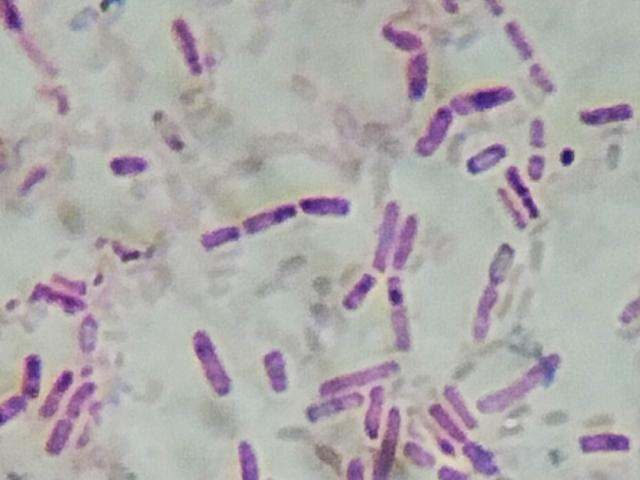E. coli: (485, 349, 573, 430), (0, 0, 63, 79), (191, 322, 235, 400), (383, 273, 418, 353), (245, 195, 302, 240), (299, 183, 353, 226), (507, 165, 548, 218), (171, 16, 209, 73), (259, 342, 299, 395), (233, 424, 269, 480), (469, 282, 502, 343), (579, 96, 638, 130), (578, 427, 633, 463), (442, 377, 485, 422), (371, 196, 399, 264), (105, 145, 161, 178), (455, 79, 509, 111), (309, 393, 363, 425), (418, 103, 451, 155), (196, 222, 247, 253), (380, 409, 403, 477), (325, 365, 400, 385), (343, 267, 373, 315), (493, 189, 526, 231), (18, 349, 48, 395), (395, 215, 422, 266), (616, 284, 640, 339), (486, 239, 519, 277), (465, 140, 509, 168), (408, 47, 433, 96), (382, 17, 418, 51), (505, 19, 534, 58), (43, 367, 65, 416), (429, 405, 459, 440), (366, 385, 387, 434), (81, 303, 100, 357), (49, 417, 72, 459), (71, 382, 95, 421), (529, 60, 554, 96), (471, 445, 503, 471), (406, 440, 438, 466), (526, 117, 551, 146), (5, 386, 25, 422), (434, 461, 467, 480), (474, 0, 509, 16), (344, 451, 363, 480), (528, 153, 546, 179)
